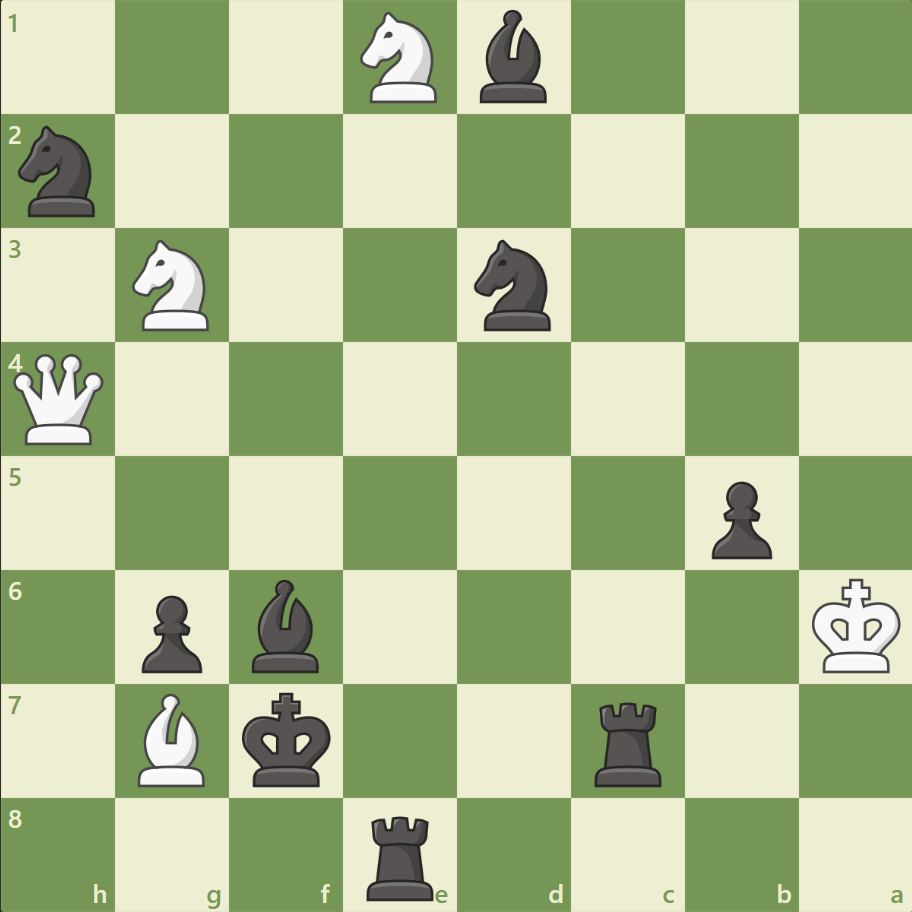B: (131, 687, 215, 790)
K: (806, 571, 906, 679)
N: (124, 234, 222, 337), (351, 7, 449, 110)
Q: (10, 349, 109, 449)
b: (471, 6, 555, 109), (244, 574, 328, 676)
k: (238, 685, 338, 793)
n: (465, 234, 562, 337), (11, 121, 108, 223)
p: (133, 586, 208, 677), (701, 473, 776, 564)
r: (587, 693, 670, 790), (360, 806, 442, 904)
